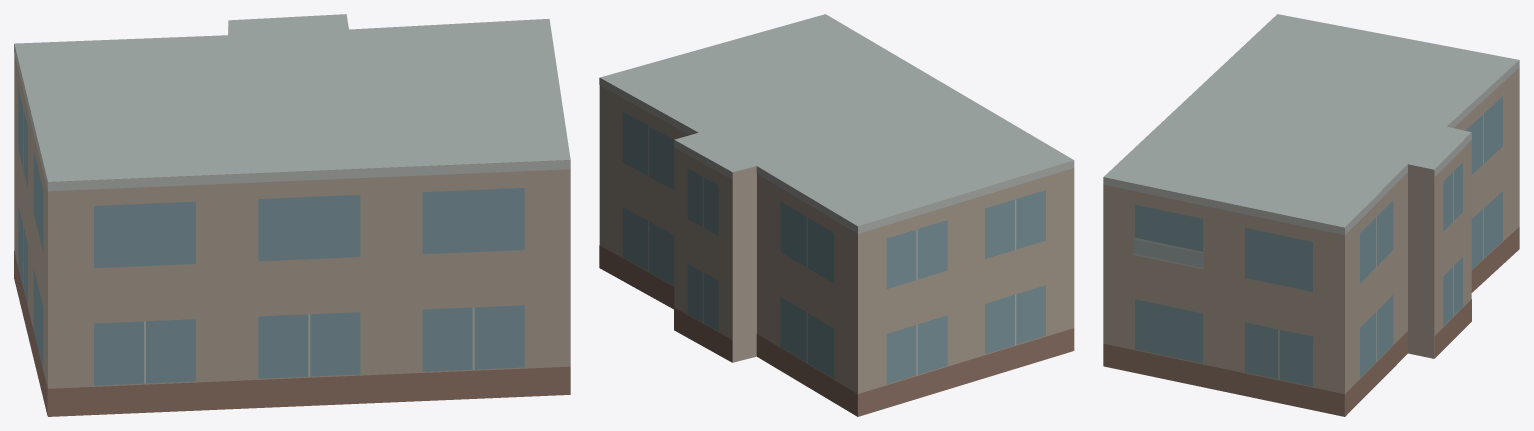
Rendered from survey-upis-32669323.glb.
3 renders of one model, left to right at view 1: azimuth 30°, elevation 25°; view 2: azimuth 150°, elevation 25°; view 3: azimuth 270°, elevation 25°, orthographic. The views are drawn at different scales.
Parts seen in each view (by area): view 1: survey-upis-32669323.tmp; view 2: survey-upis-32669323.tmp; view 3: survey-upis-32669323.tmp.
Boxes of the visible parts, box(x1,y1,x2,y2) form: survey-upis-32669323.tmp: box(14, 14, 570, 416); survey-upis-32669323.tmp: box(599, 14, 1074, 416); survey-upis-32669323.tmp: box(1103, 14, 1519, 416).
Size of the model in its own units: 14.78 by 6.1 by 12.17.
